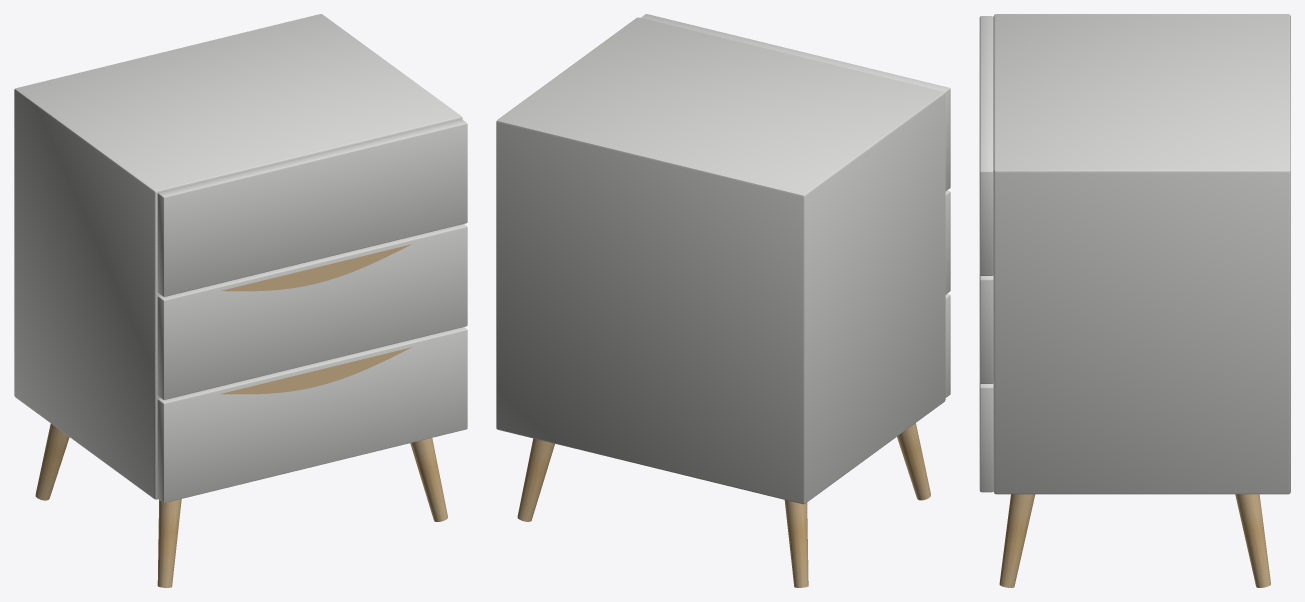
Rendered from rec150iOY5ViMW0x7.glb.
The picture shows the model from 3 angles, left to right: view 1: azimuth 30°, elevation 25°; view 2: azimuth 150°, elevation 25°; view 3: azimuth 270°, elevation 25°; orthographic projection. The views are drawn at different scales.
Parts seen in each view (by area): view 1: Chevet_2_Corps; view 2: Chevet_2_Corps; view 3: Chevet_2_Corps.
Part boxes in pixels (box(x1,y1,x2,y2)): Chevet_2_Corps: box(14, 14, 467, 587); Chevet_2_Corps: box(496, 14, 950, 587); Chevet_2_Corps: box(979, 14, 1290, 587).
Bounding box in the file's own units: 0.48 × 0.6024 × 0.4008.
2 materials, 1 textured.
